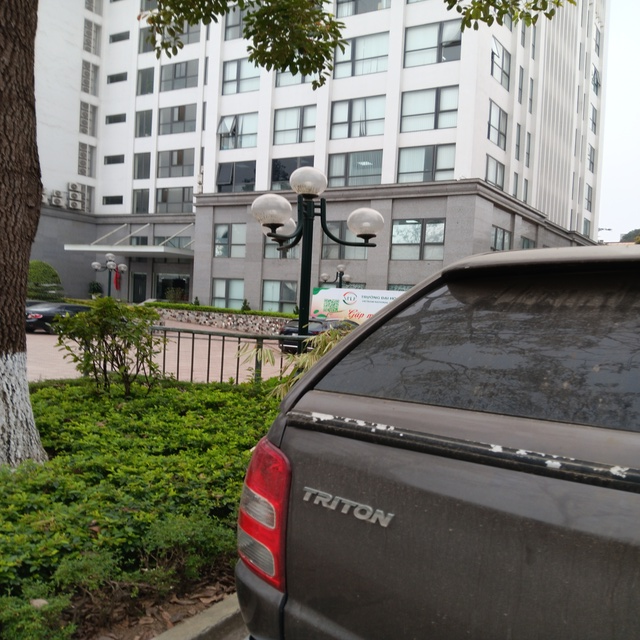cotden: (252, 164, 383, 375), (77, 242, 134, 308), (311, 262, 364, 301)
